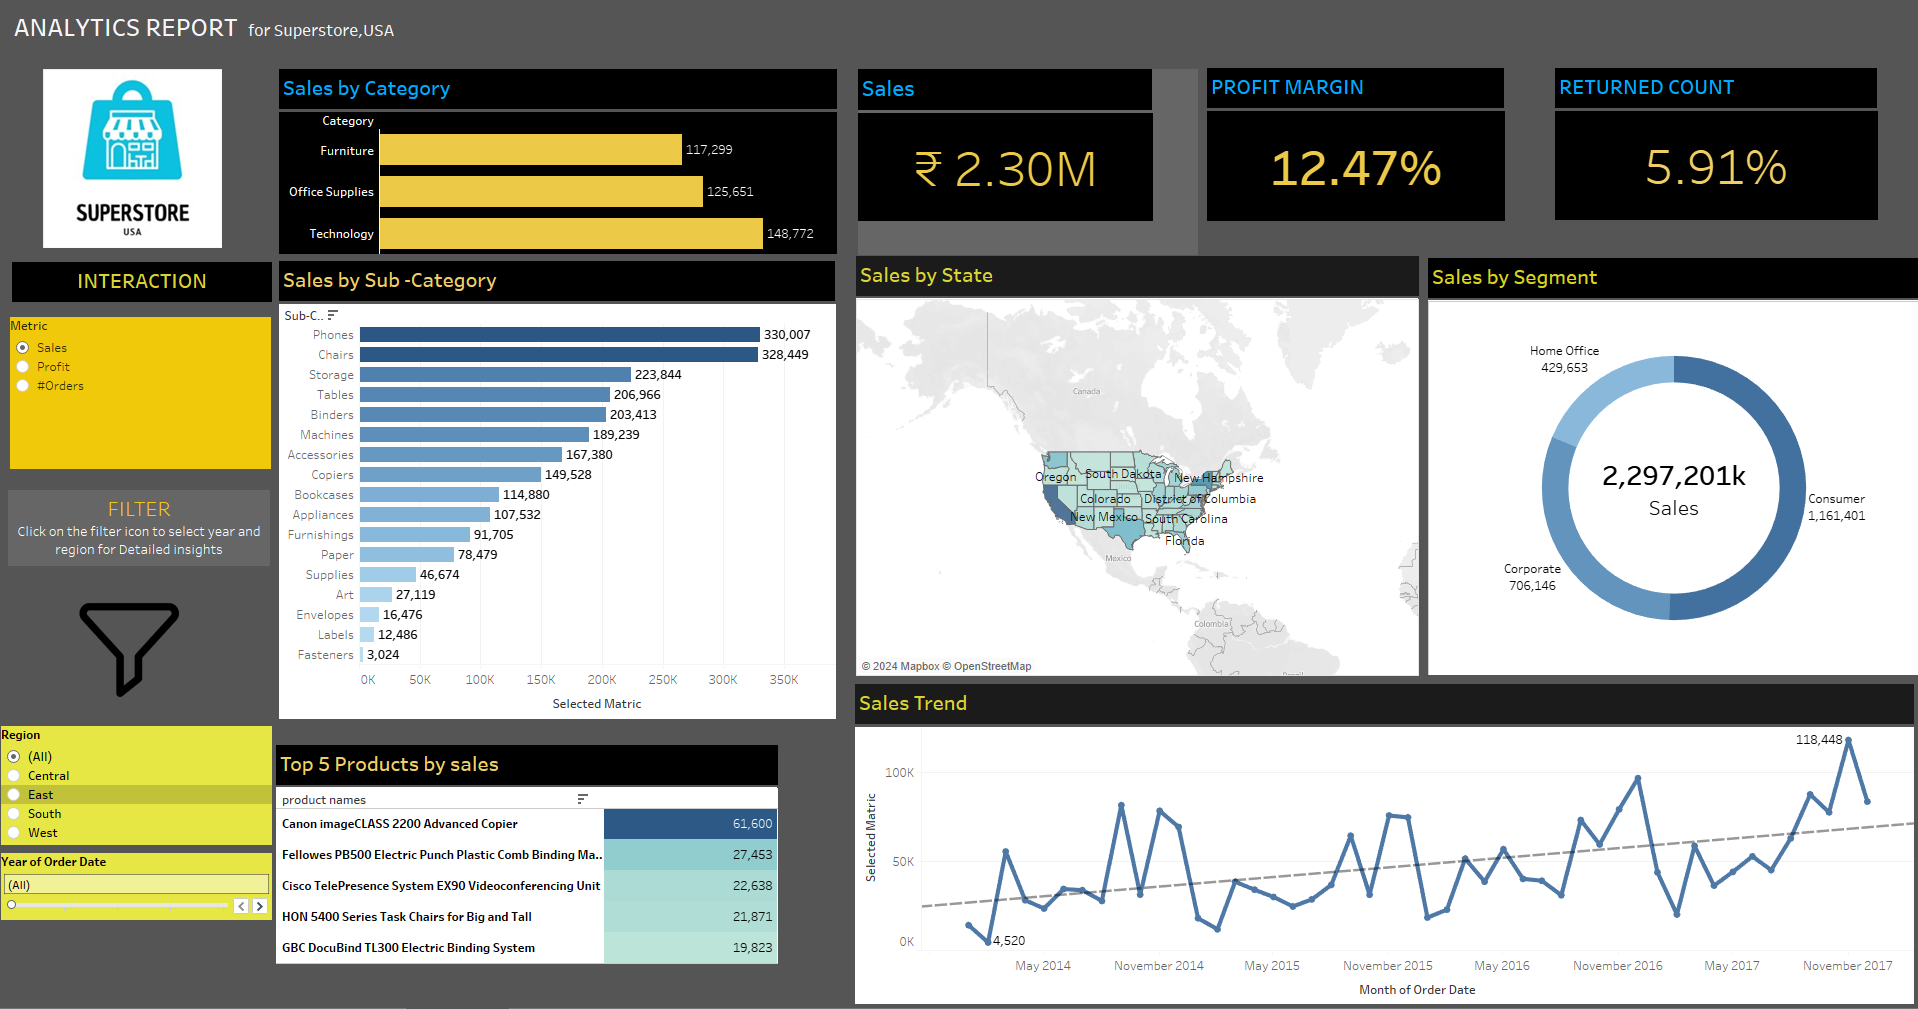

This screenshot's page, from the dashboard's own definition file:
{"tool":"tableau","page":{"name":"Dashboard 1","canvas":[1000,1000],"units":"permille","ordinal":0},"visuals":[{"type":"title","box":[4.7,9.3,990.6,47.9]},{"type":"worksheet","title":"KPI CARD DASHBOARD (P)","mark":"Automatic","box":[629,68.9,176.1,191.6]},{"type":"worksheet","title":"KPI CARD DASHBOARD(R)","mark":"Automatic","box":[810.4,68.9,189,178.7]},{"type":"worksheet","title":"BAR CHART","mark":"Bar","rows":["Category"],"cols":["Calculation_376613542490882051"],"box":[145.7,70.1,290.8,183.4]},{"type":"worksheet","title":"KPI CARD DASHBOARD","mark":"Automatic","box":[447.6,70.1,177.3,184.6]},{"type":"worksheet","title":"MAP","mark":"Automatic","box":[446.5,255.8,293.2,415.9]},{"type":"worksheet","title":"DONUT CHART","mark":"Pie","rows":["Calculation_376613542705250310","Calculation_376613542705250310"],"box":[744.3,257,256.9,413.6]},{"type":"worksheet","title":"BAR CHART(1)","mark":"Automatic","rows":["Sub-Category"],"cols":["Calculation_376613542490882051"],"box":[145.7,260.5,303.7,483.6]},{"type":"worksheet","title":"TITLE(INTERACTION)","mark":"Automatic","box":[7,261.7,135.2,52.6]},{"type":"parameter","param":"[Parameters].[Parameter 3]","box":[5.9,315.4,135.8,150.7]},{"type":"worksheet","title":"TITLE","mark":"Automatic","box":[4.7,487.2,136.3,94.6]},{"type":"dashboard-object","box":[34.9,584.1,66.3,116.8]},{"type":"worksheet","title":"LINE CHART","mark":"Line","rows":["Calculation_376613542490882051"],"cols":["Order Date"],"box":[445.9,678.7,551.8,317.8]},{"type":"worksheet","title":"TABLE","mark":"Automatic","rows":["Product Name"],"box":[144.5,739.5,298.4,262.9]}]}

Visuals, with their boxes on the dashboard's canvas, which has no fixed pixel size, in thousandths of its width and height (x1, y1, x2, y2). These are canvas units, not pixel positions in the 1918x1009 screenshot, which may show the page scaled, cropped or inside an application window:
title: 5:9:995:57
"KPI CARD DASHBOARD (P)" worksheet: 629:69:805:260
"KPI CARD DASHBOARD(R)" worksheet: 810:69:999:248
"BAR CHART" worksheet (Bar marks): 146:70:436:254
"KPI CARD DASHBOARD" worksheet: 448:70:625:255
"MAP" worksheet: 446:256:740:672
"DONUT CHART" worksheet (Pie marks): 744:257:1001:671
"BAR CHART(1)" worksheet: 146:260:449:744
"TITLE(INTERACTION)" worksheet: 7:262:142:314
parameter: 6:315:142:466
"TITLE" worksheet: 5:487:141:582
dashboard-object: 35:584:101:701
"LINE CHART" worksheet (Line marks): 446:679:998:996
"TABLE" worksheet: 144:740:443:1002
